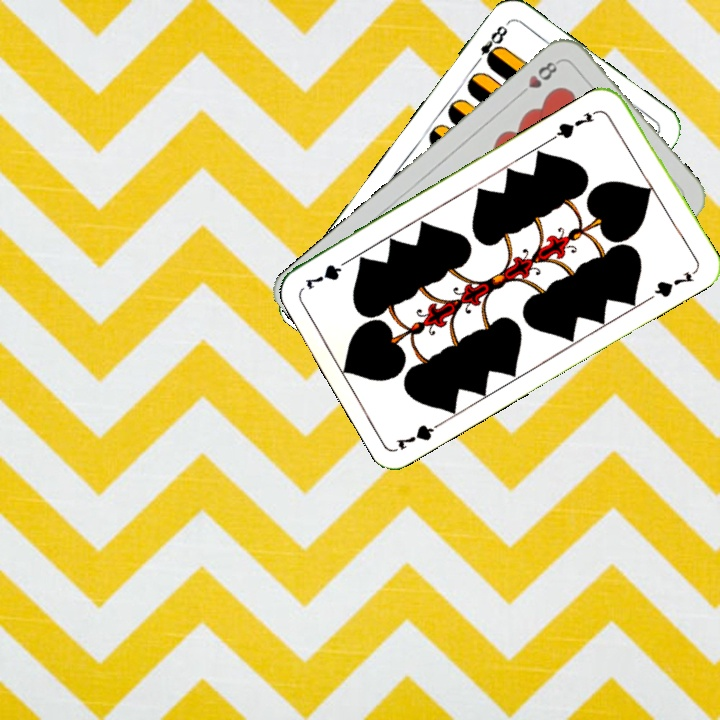E8: (470, 21, 510, 69)
G7: (392, 415, 449, 453), (549, 105, 604, 142)
H8: (514, 56, 562, 100)
